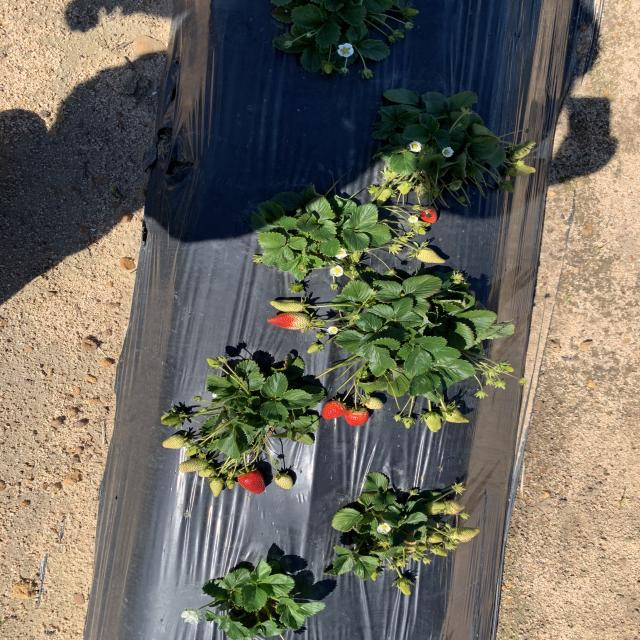unripe: (268, 311, 312, 330), (239, 470, 267, 496), (321, 400, 347, 421), (345, 408, 370, 427), (418, 206, 439, 223)
